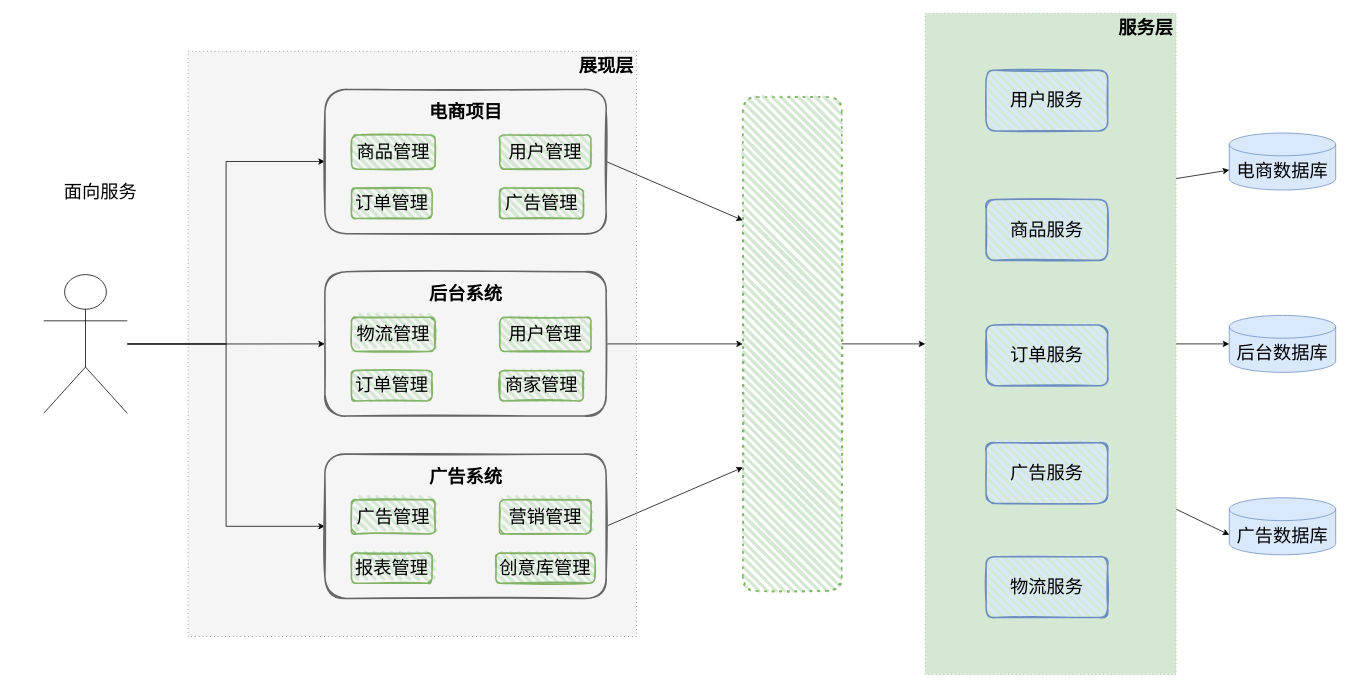
Image size: 1349x688. Some labels were removed from this diagram. Here are the shapes that lost their labels. From the top down, the box of each, then its label:
(43, 274, 127, 413): Actor
(742, 96, 842, 591): 服 务 注 册 中 心
